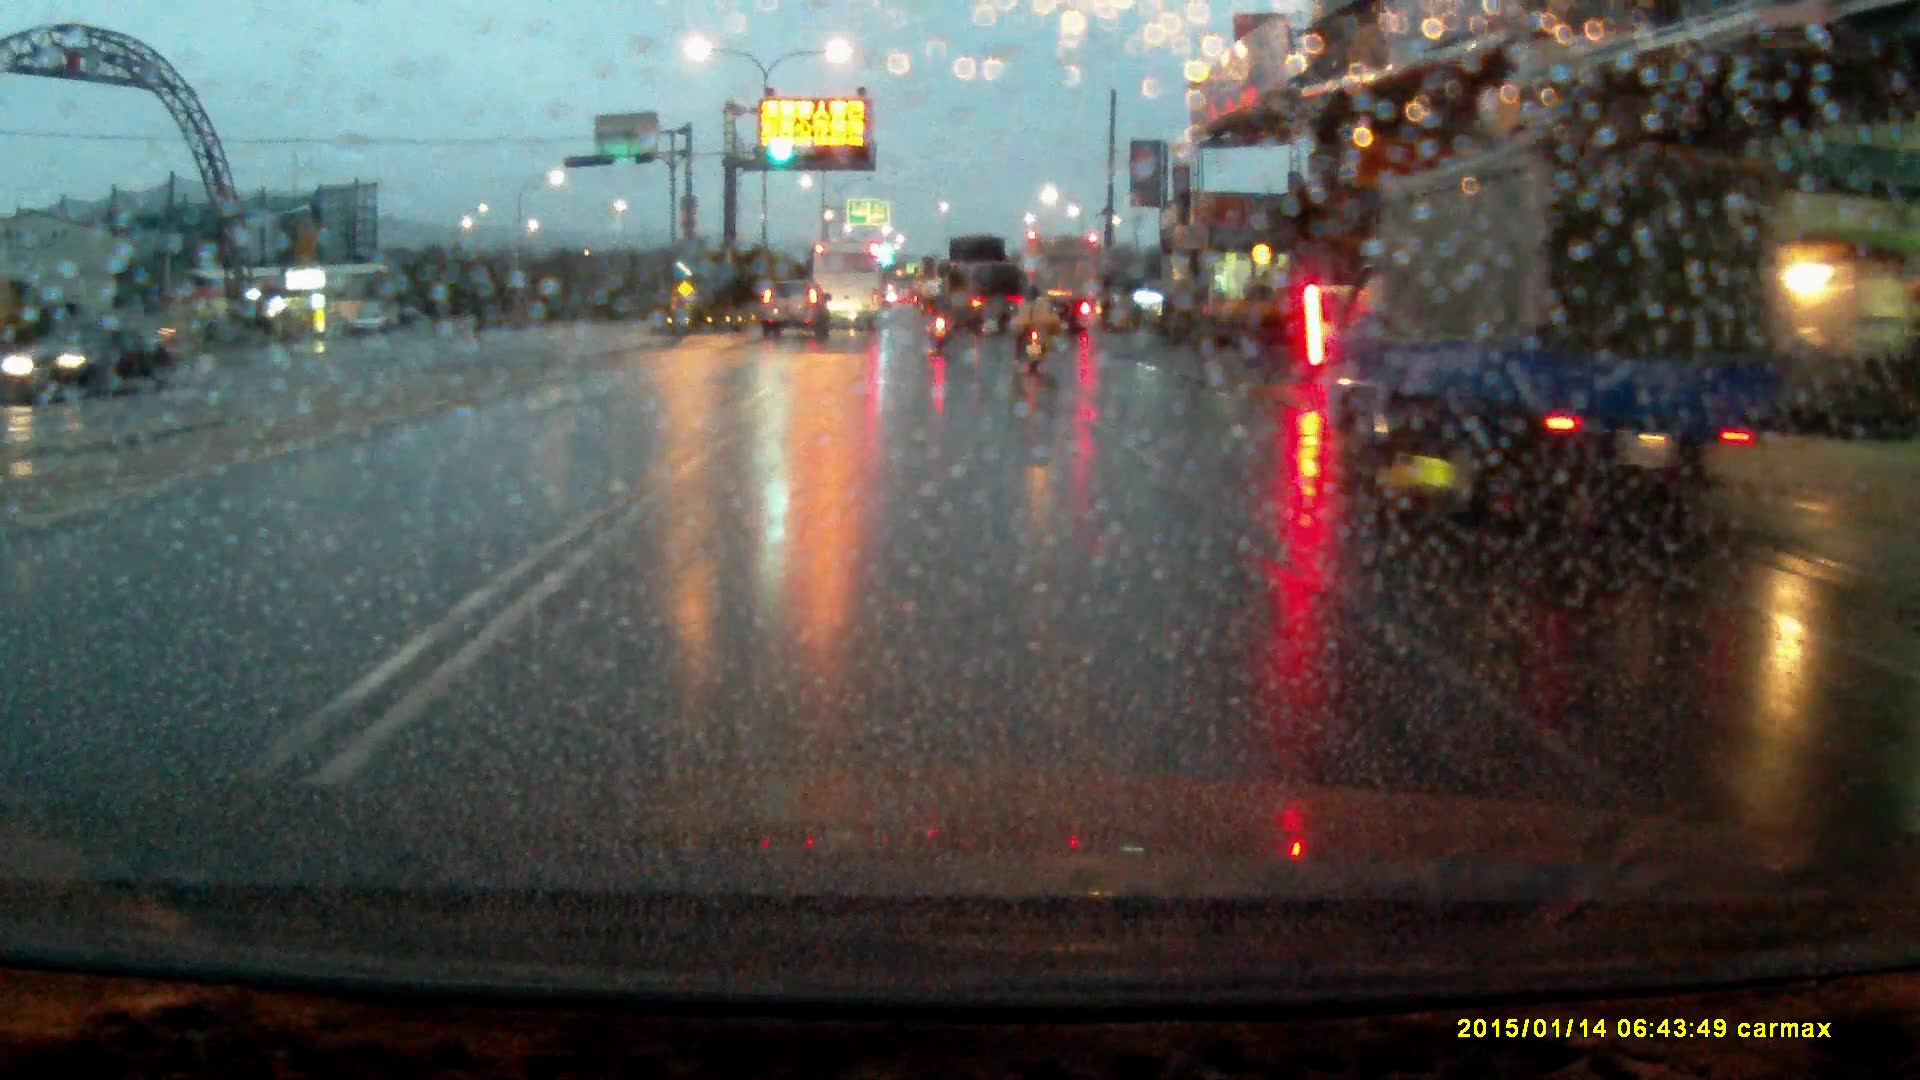rider: (1011, 275, 1050, 372), (928, 281, 953, 350)
vehicle: (1318, 136, 1778, 526), (21, 323, 169, 403), (938, 239, 1024, 341), (1024, 233, 1103, 329), (810, 244, 884, 331), (761, 282, 828, 341)
